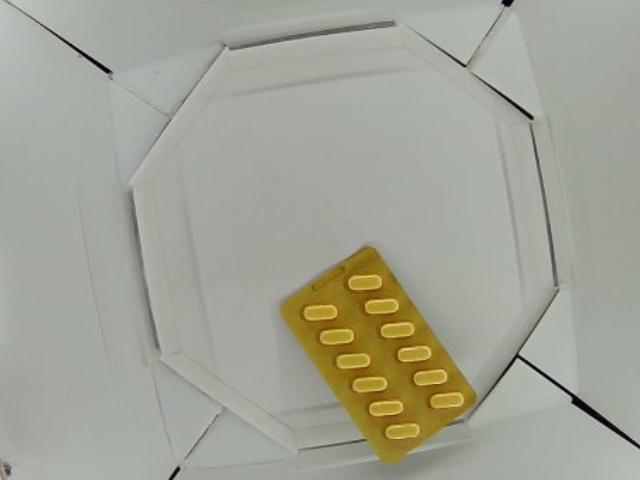Medicine: (280, 241, 476, 466)
